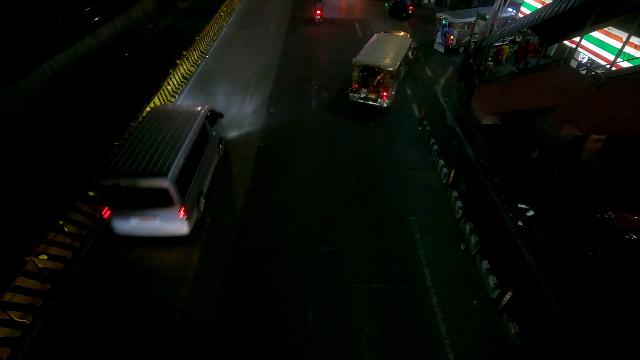jeepney: (349, 30, 417, 106)
van: (98, 104, 225, 236)
